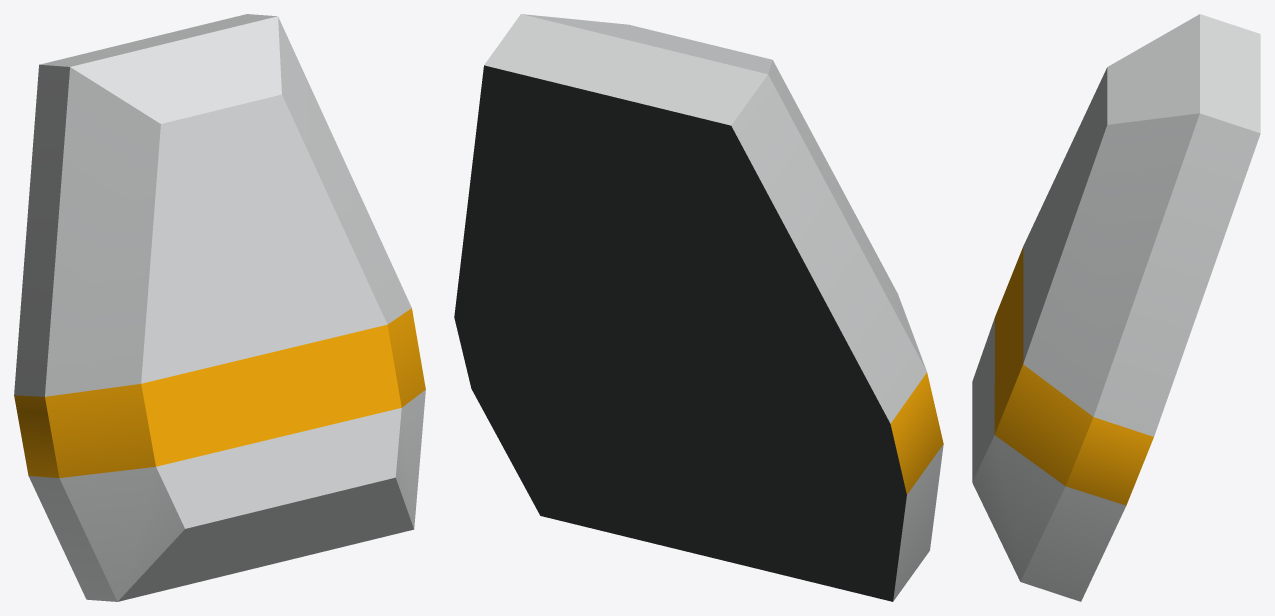
The model's file is Turret_013_Part_06.fbx.
3 views of the same model, side by side, from view 1: azimuth 30°, elevation 25°; view 2: azimuth 150°, elevation 25°; view 3: azimuth 270°, elevation 25° (orthographic). The views are drawn at different scales.
Parts seen in each view (by area): view 1: Turret_013_Part_06; view 2: Turret_013_Part_06; view 3: Turret_013_Part_06.
Part boxes in pixels (left/top/right/bottom): Turret_013_Part_06: left=14, top=14, right=425, bottom=601; Turret_013_Part_06: left=454, top=14, right=943, bottom=601; Turret_013_Part_06: left=972, top=14, right=1260, bottom=601.
Bounding box in the file's own units: 44.31 × 30.82 × 55.1.
